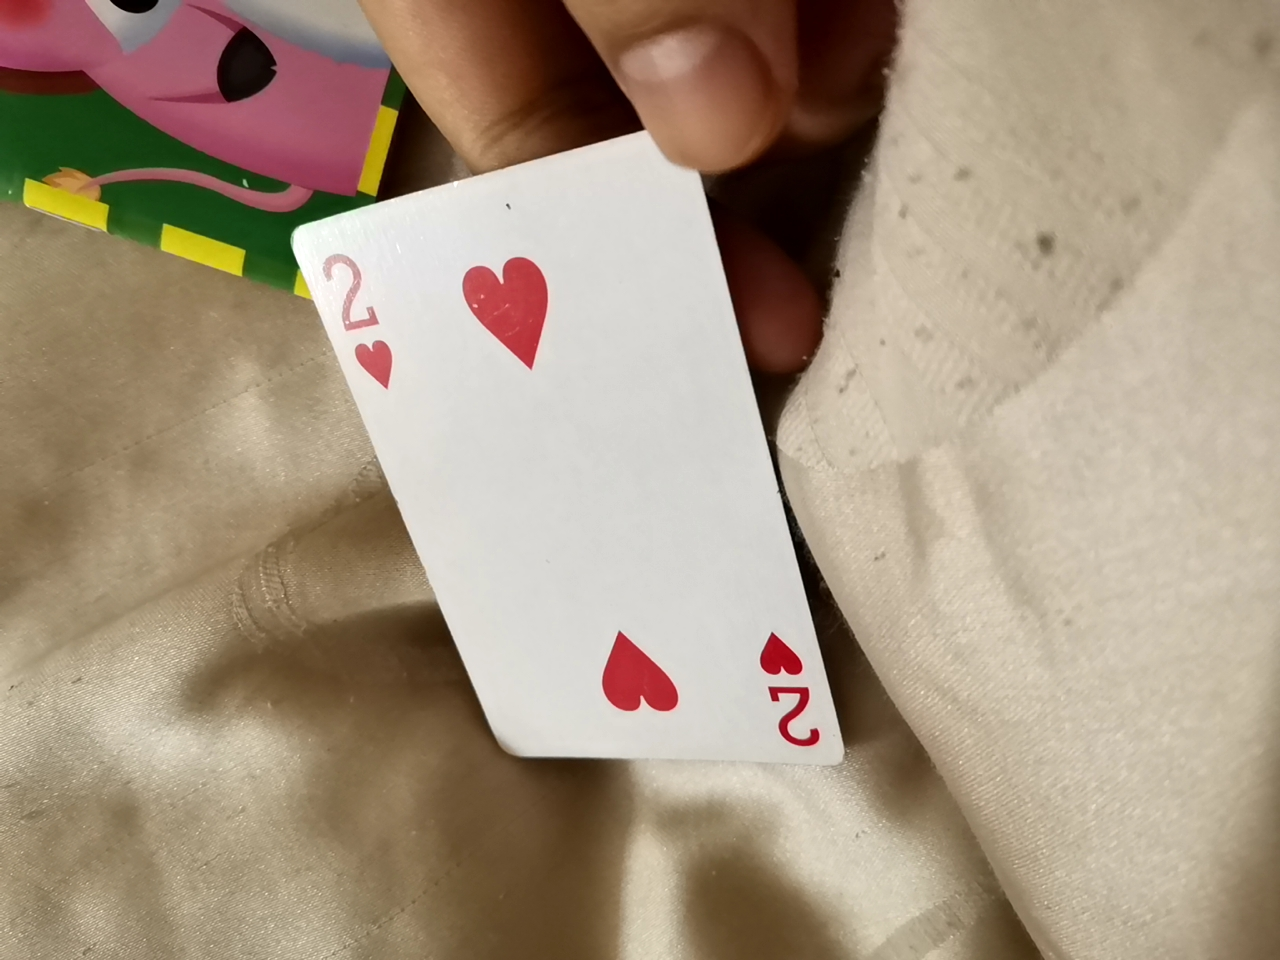hx 2: (299, 131, 844, 799)
